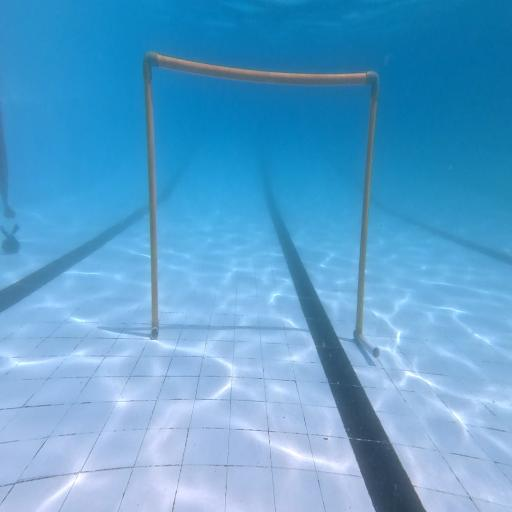gate: (143, 52, 379, 358)
